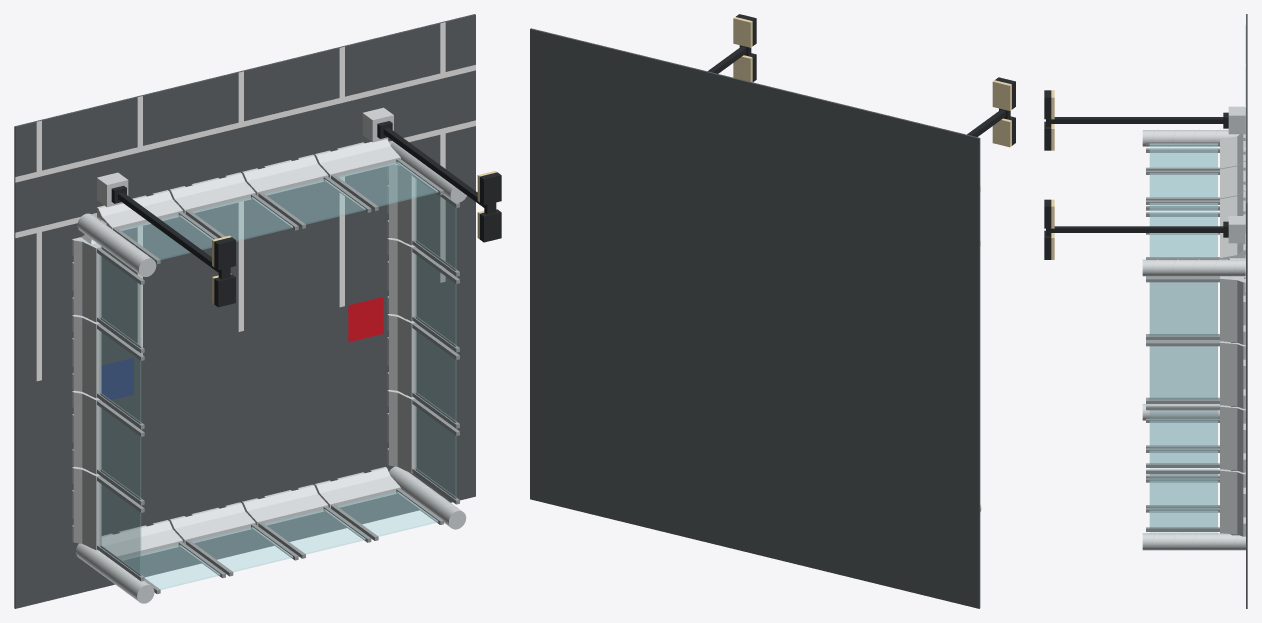
The model's file is tinker.obj.
3 renders of one model, left to right at view 1: azimuth 30°, elevation 25°; view 2: azimuth 150°, elevation 25°; view 3: azimuth 270°, elevation 25°, orthographic. The views are drawn at different scales.
Visible parts, largest first — view 1: group_0_6383466, group_0_14541540, group_0_-1028593425, group_0_10988977, group_0_16448250, group_0_2829873, group_0_15277357, group_0_3888547; view 2: group_0_6383466, group_0_16311991, group_0_2829873; view 3: group_0_-1028593425, group_0_14541540, group_0_10988977, group_0_2829873, group_0_6383466, group_0_16311991, group_0_16448250.
Boxes of the visible parts, x1=… form: group_0_6383466: x1=14, y1=14, x2=475, y2=608; group_0_14541540: x1=72, y1=107, x2=466, y2=603; group_0_-1028593425: x1=99, y1=161, x2=456, y2=589; group_0_10988977: x1=97, y1=158, x2=459, y2=594; group_0_16448250: x1=15, y1=22, x2=475, y2=381; group_0_2829873: x1=111, y1=121, x2=501, y2=307; group_0_15277357: x1=348, y1=297, x2=383, y2=342; group_0_3888547: x1=101, y1=358, x2=133, y2=401; group_0_6383466: x1=530, y1=28, x2=980, y2=608; group_0_16311991: x1=733, y1=17, x2=1011, y2=147; group_0_2829873: x1=708, y1=14, x2=1015, y2=145; group_0_-1028593425: x1=1149, y1=143, x2=1217, y2=532; group_0_14541540: x1=1142, y1=106, x2=1245, y2=550; group_0_10988977: x1=1146, y1=140, x2=1219, y2=531; group_0_2829873: x1=1044, y1=90, x2=1228, y2=259; group_0_6383466: x1=1246, y1=14, x2=1247, y2=608; group_0_16311991: x1=1051, y1=90, x2=1054, y2=259; group_0_16448250: x1=1245, y1=23, x2=1245, y2=408.
Bounding box in the file's own units: 260 × 260 × 118.
